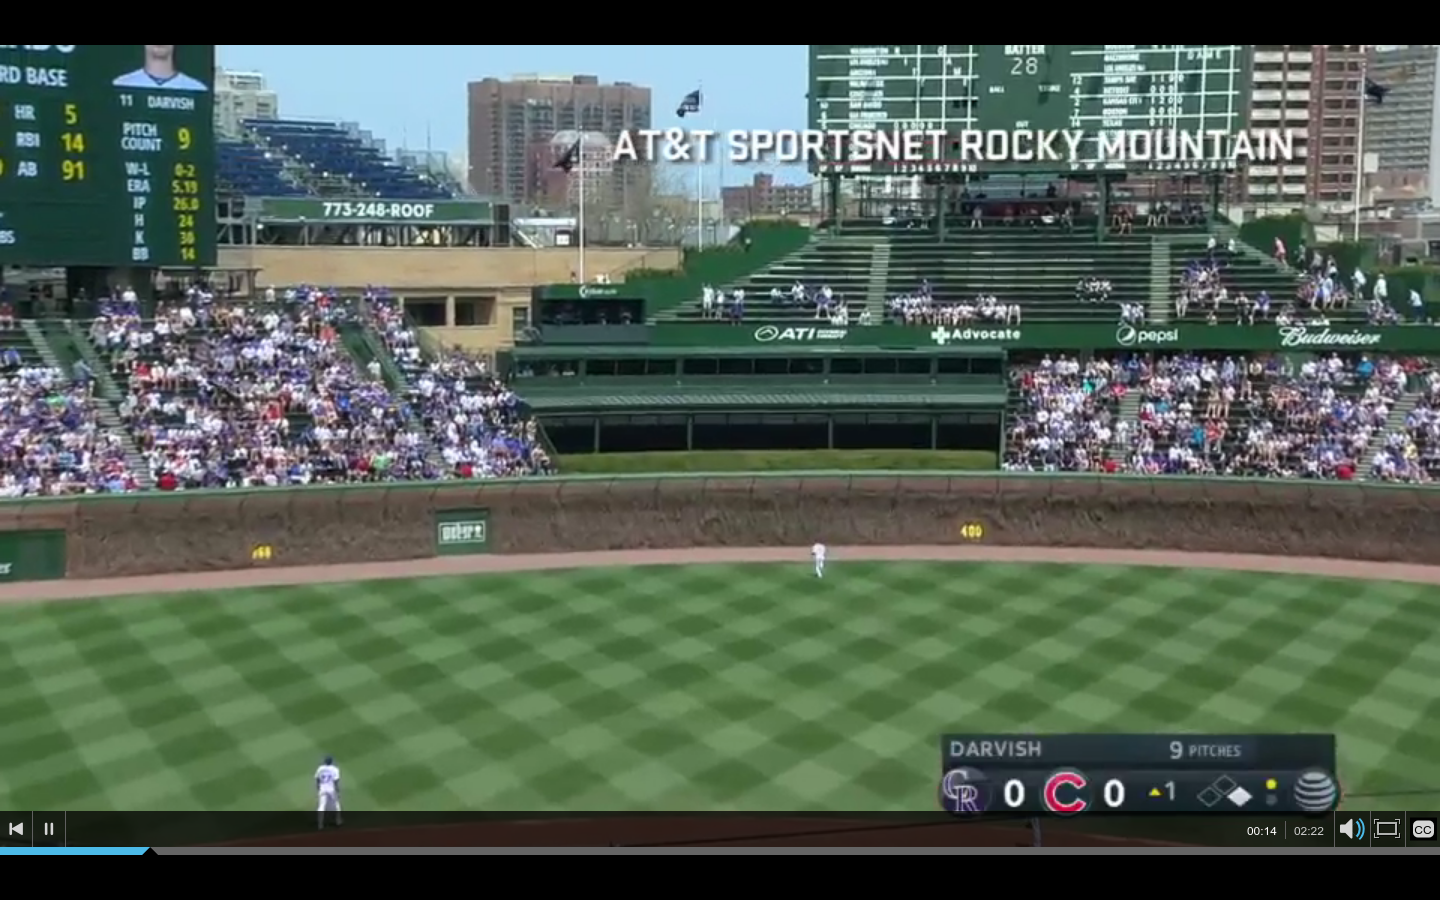baseball player: (307, 754, 344, 831), (808, 537, 833, 585)
